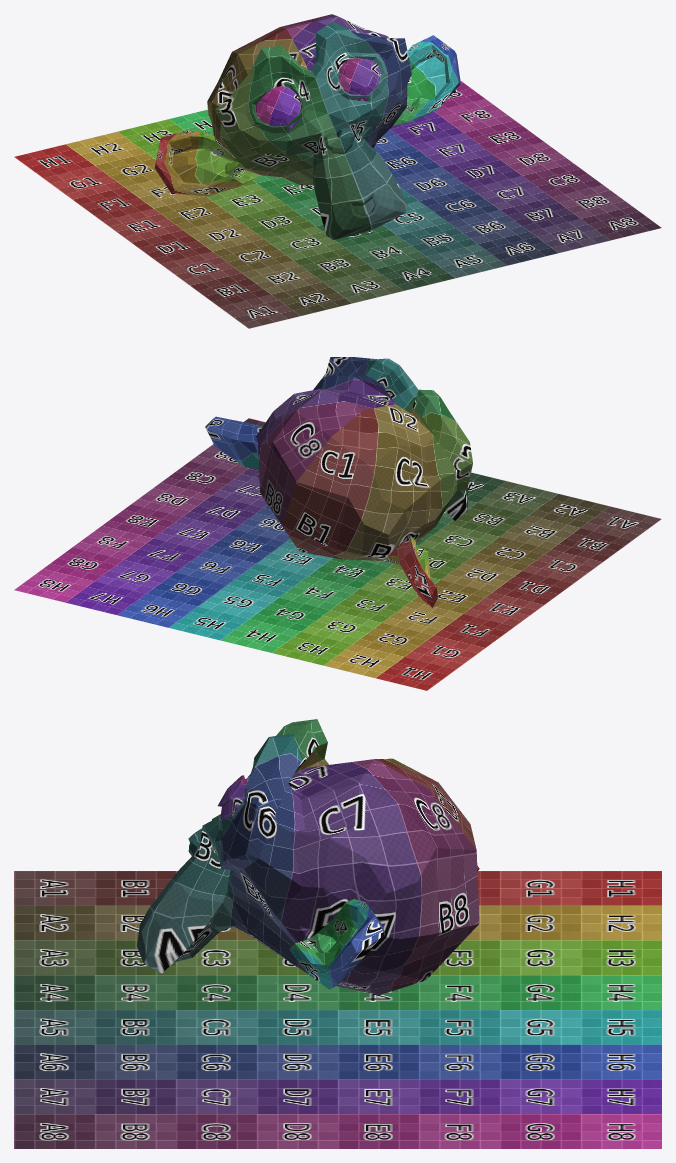
Rendered from monkey_embedded_texture.fbx.
3 renders of one model, top to bottom at view 1: azimuth 30°, elevation 25°; view 2: azimuth 150°, elevation 25°; view 3: azimuth 270°, elevation 25°, orthographic. The views are drawn at different scales.
Parts seen in each view (by area): view 1: Suzanne; view 2: Suzanne; view 3: Suzanne.
Boxes of the visible parts, box(x1,y1,x2,y2) form: Suzanne: box(14, 14, 661, 328); Suzanne: box(14, 357, 661, 690); Suzanne: box(14, 719, 661, 1148).
Bounding box in the file's own units: 400 × 174 × 394.
1 material, 1 textured.
